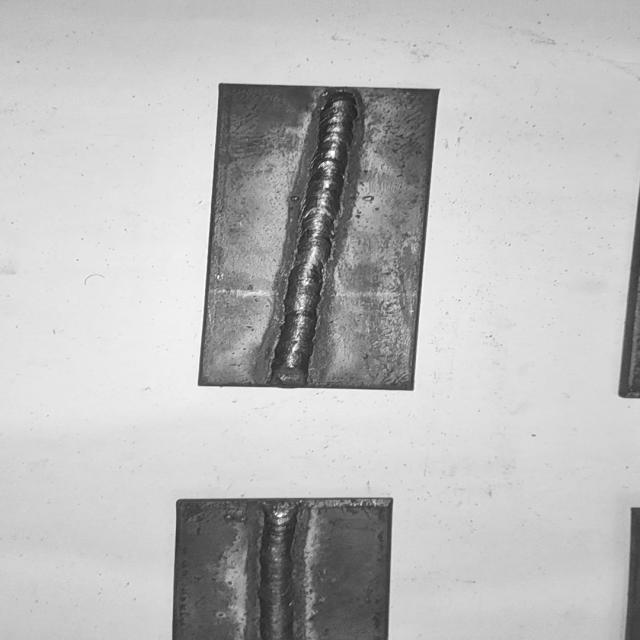Good Weld: (275, 92, 360, 386), (258, 501, 297, 640)
